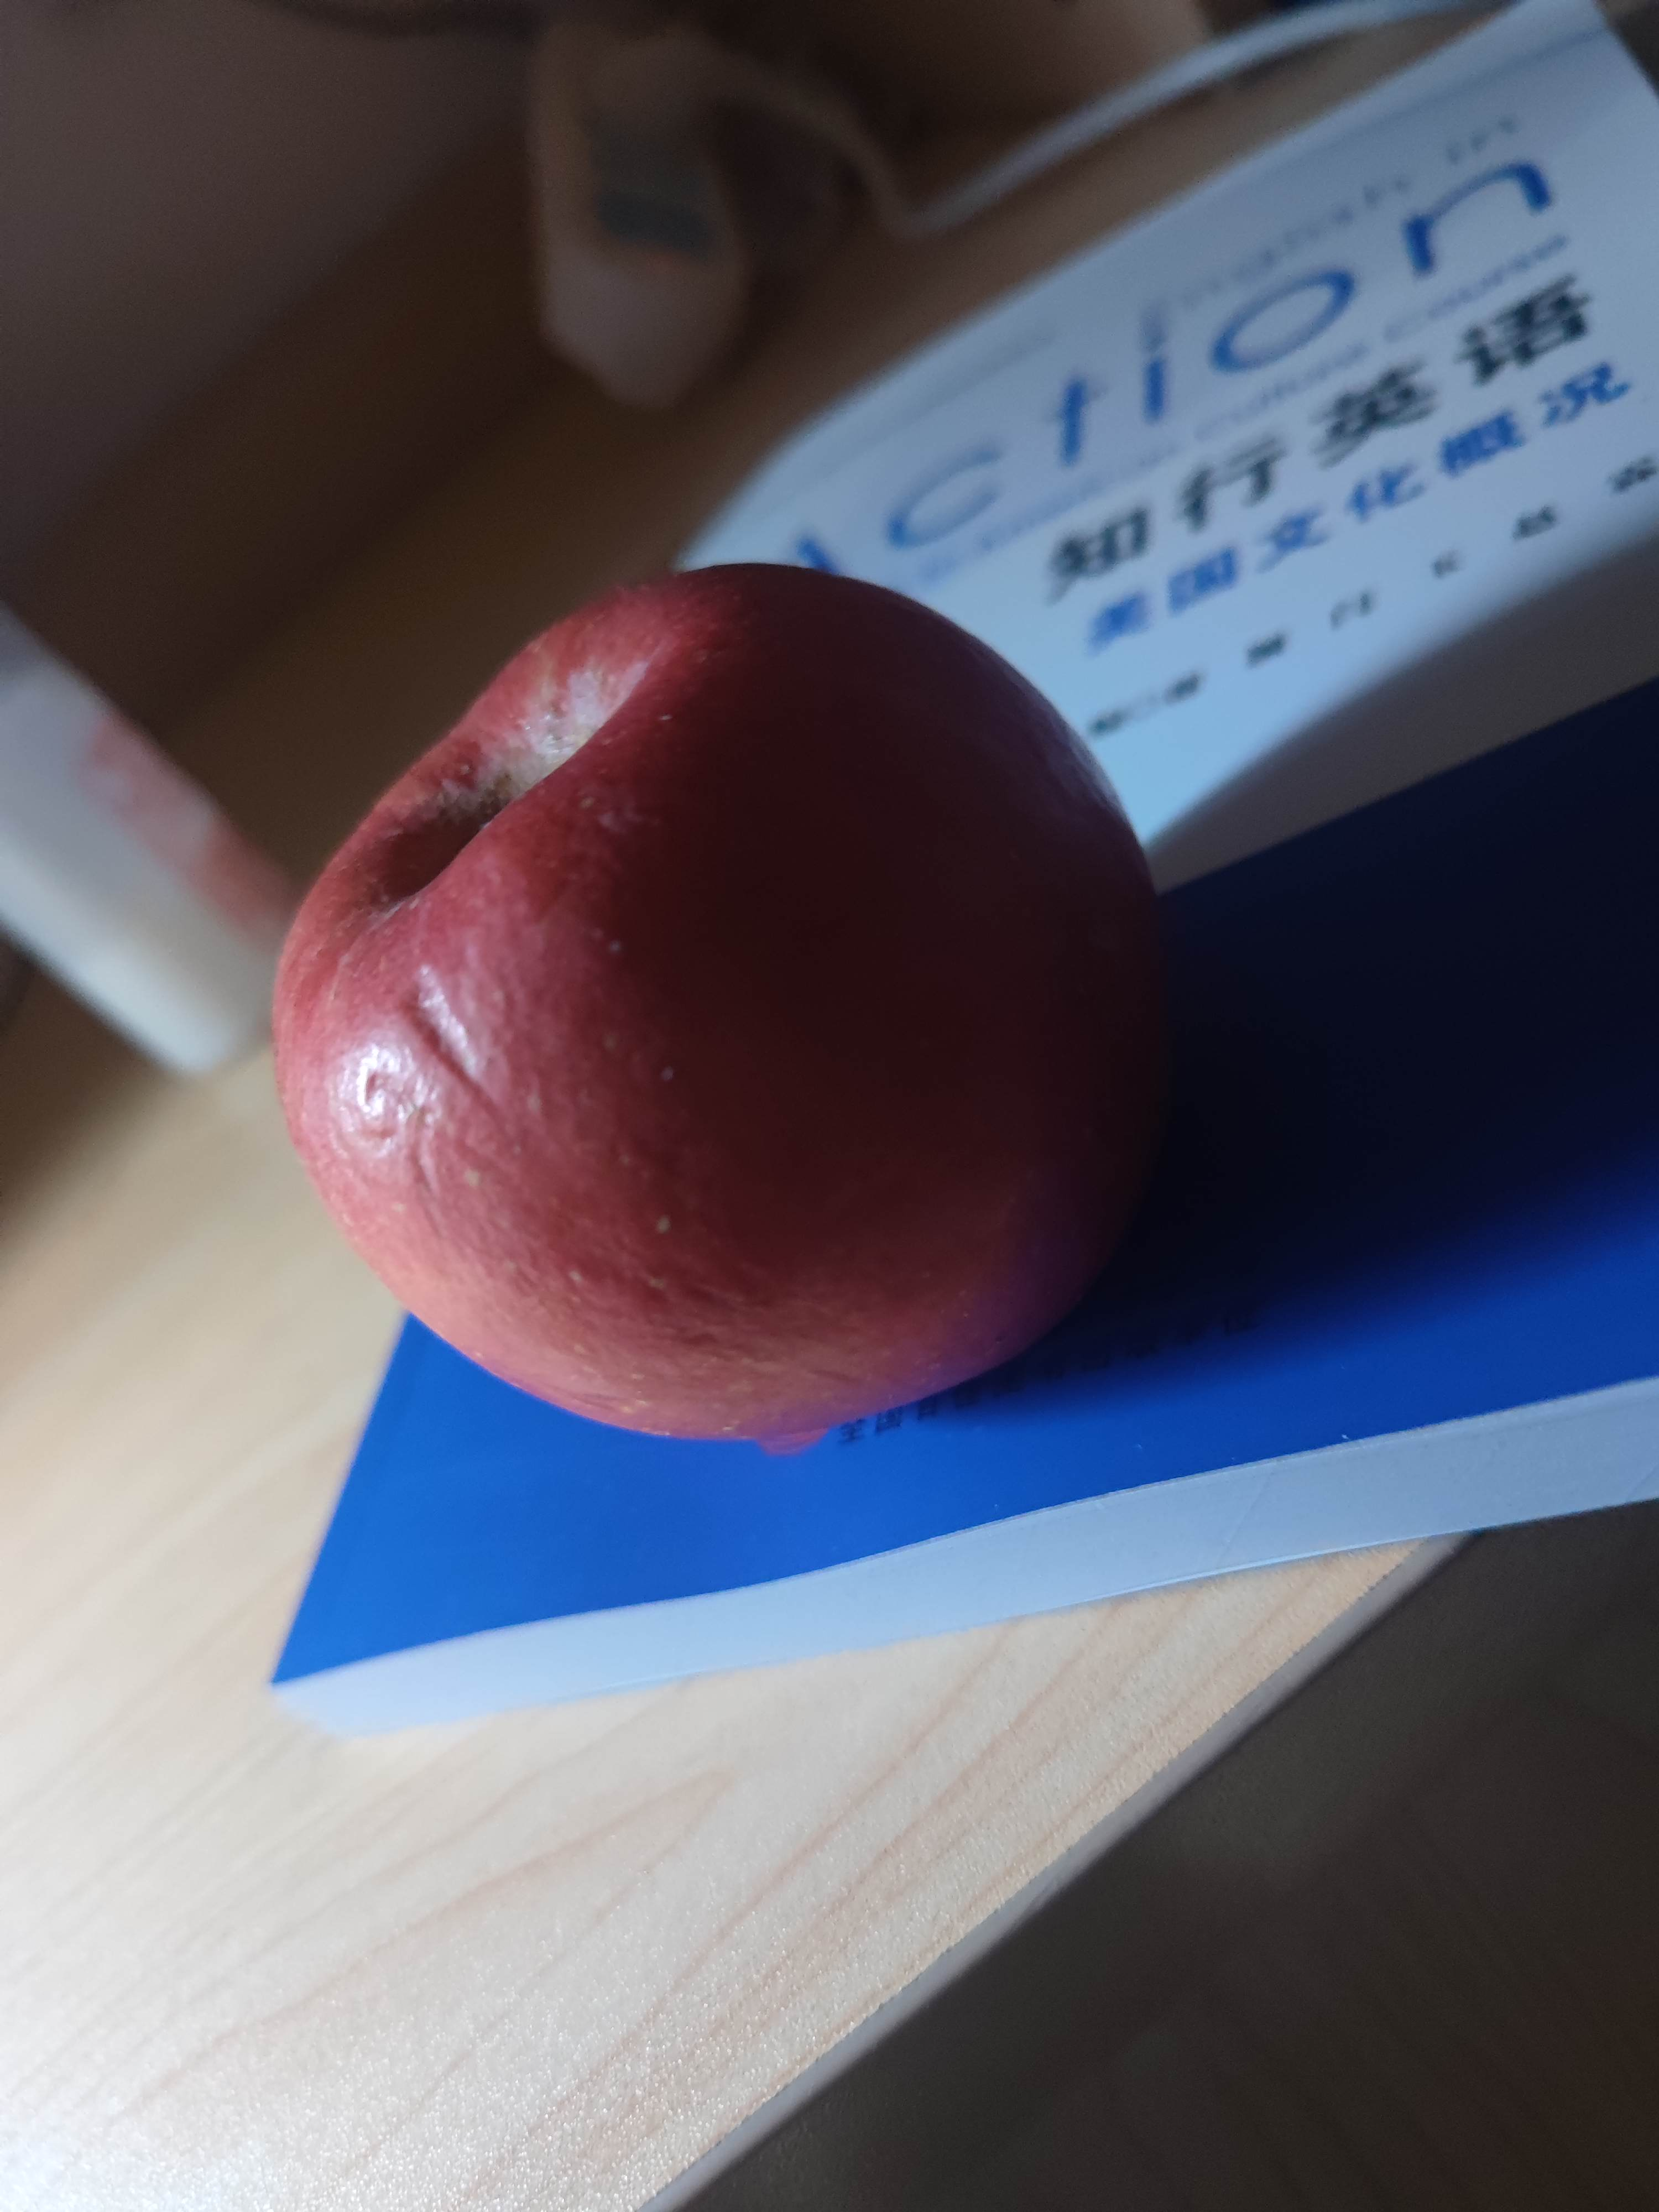apple: (265, 557, 1169, 1432)
